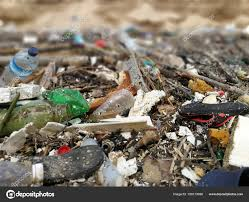garbage: (5, 19, 249, 186)
